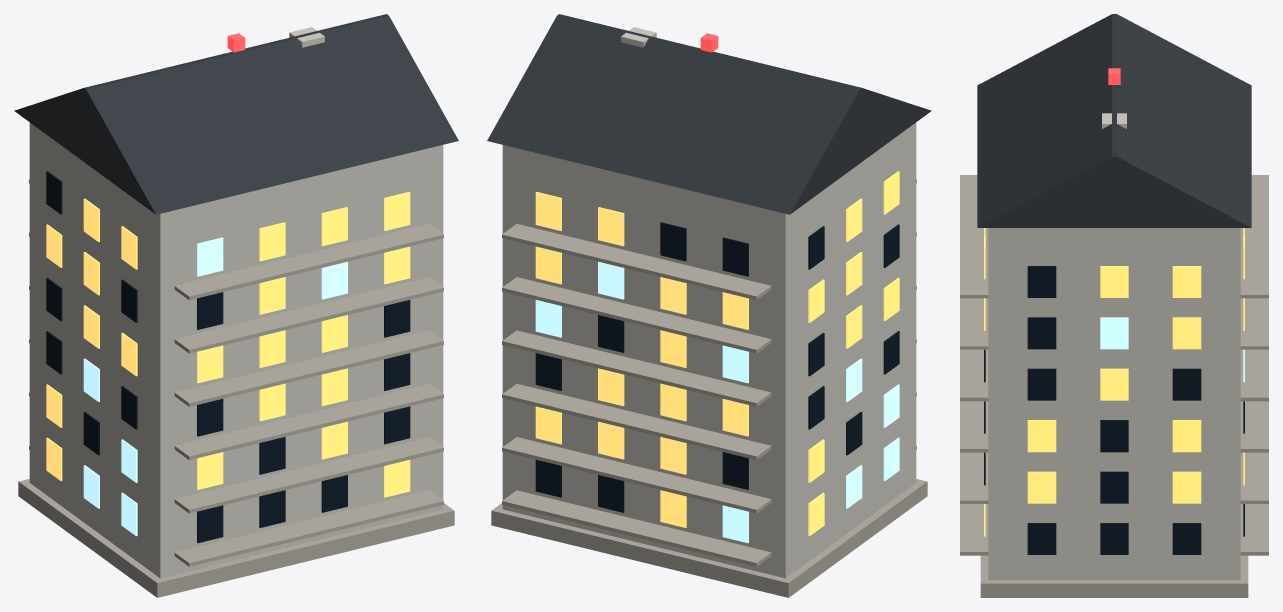
File: sk_apartment.glb
3 renders of one model, left to right at view 1: azimuth 30°, elevation 25°; view 2: azimuth 150°, elevation 25°; view 3: azimuth 270°, elevation 25°, orthographic. The views are drawn at different scales.
Parts seen in each view (by area): view 1: apartment_Wall, apartment_Roof, apartment_Trim, apartment_GlassLit, apartment_GlassDark, apartment_GlassCool; view 2: apartment_Wall, apartment_Roof, apartment_Trim, apartment_GlassLit, apartment_GlassDark, apartment_GlassCool; view 3: apartment_Wall, apartment_Roof, apartment_Trim, apartment_GlassDark, apartment_GlassLit, apartment_GlassCool.
Part boxes in pixels (box(x1,y1,x2,y2)): apartment_Wall: box(29, 27, 443, 578); apartment_Roof: box(14, 14, 458, 214); apartment_Trim: box(18, 179, 454, 597); apartment_GlassLit: box(46, 192, 410, 497); apartment_GlassDark: box(46, 171, 410, 543); apartment_GlassCool: box(83, 237, 347, 536); apartment_Wall: box(502, 27, 916, 578); apartment_Roof: box(487, 14, 931, 214); apartment_Trim: box(491, 179, 927, 597); apartment_GlassLit: box(535, 171, 899, 536); apartment_GlassDark: box(535, 222, 899, 512); apartment_GlassCool: box(535, 261, 899, 543); apartment_Wall: box(988, 113, 1240, 580); apartment_Roof: box(977, 14, 1251, 227); apartment_Trim: box(960, 175, 1268, 597); apartment_GlassDark: box(984, 266, 1244, 554); apartment_GlassLit: box(984, 228, 1244, 536); apartment_GlassCool: box(1100, 317, 1244, 382).
Bounding box in the file's own units: 21.4 × 32 × 19.6.
